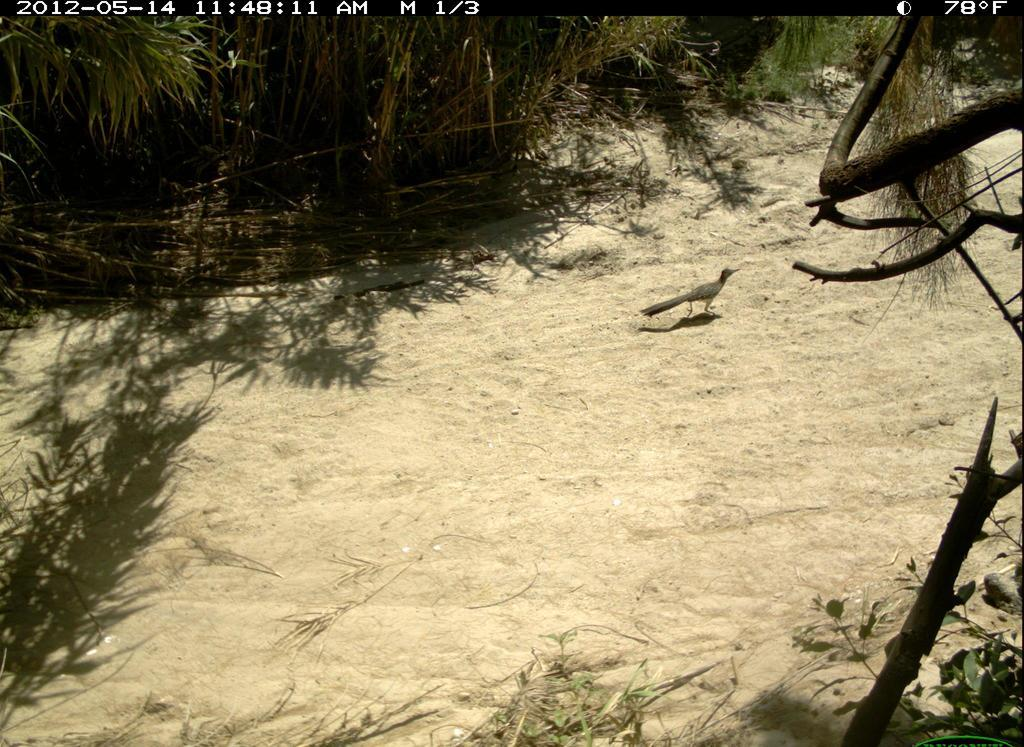bird: (638, 254, 742, 340)
